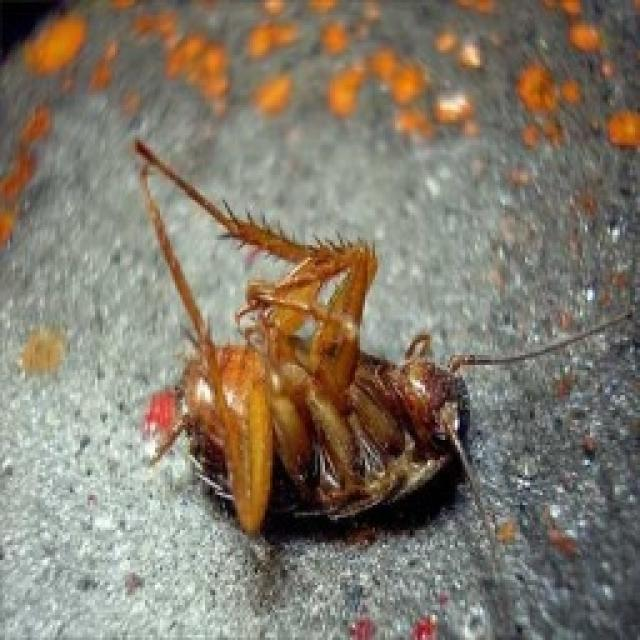cockroach: (105, 154, 527, 566)
